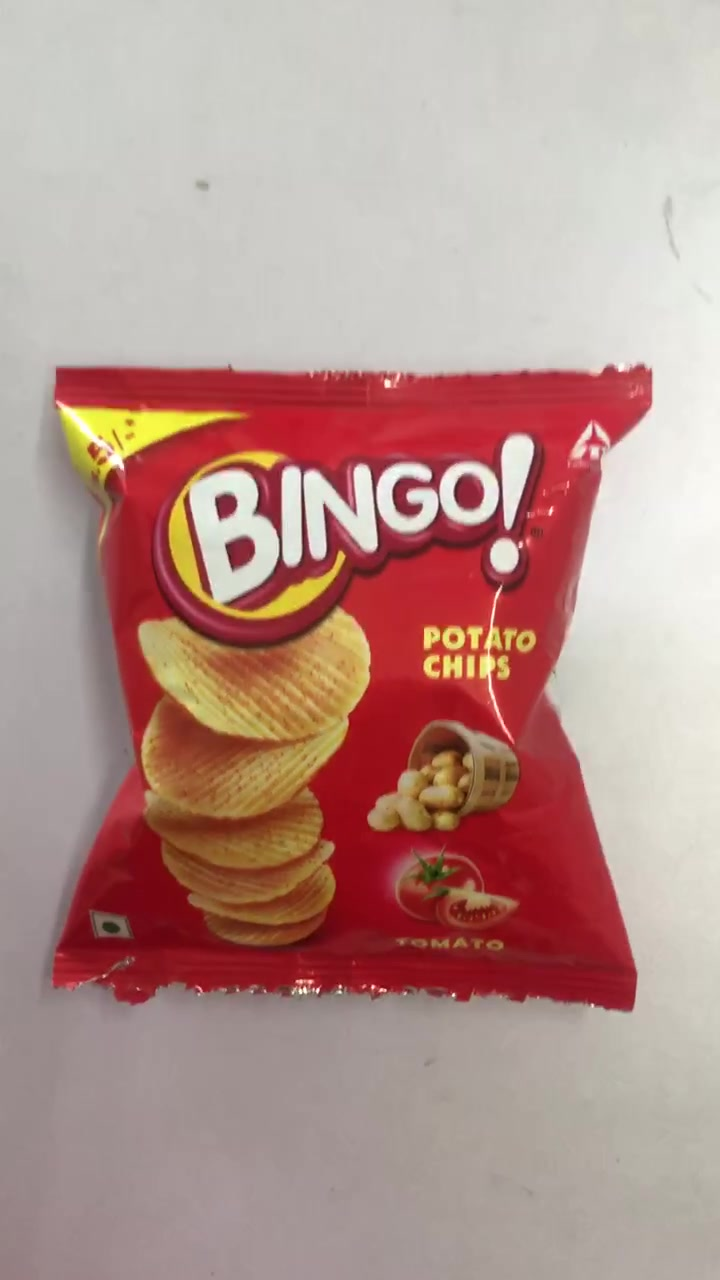Bingo: (56, 366, 634, 1010)
